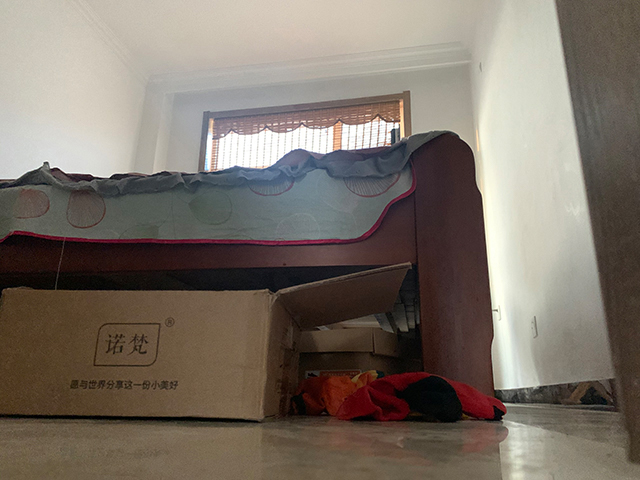bed: (1, 130, 495, 411)
socks: (289, 369, 508, 423)
